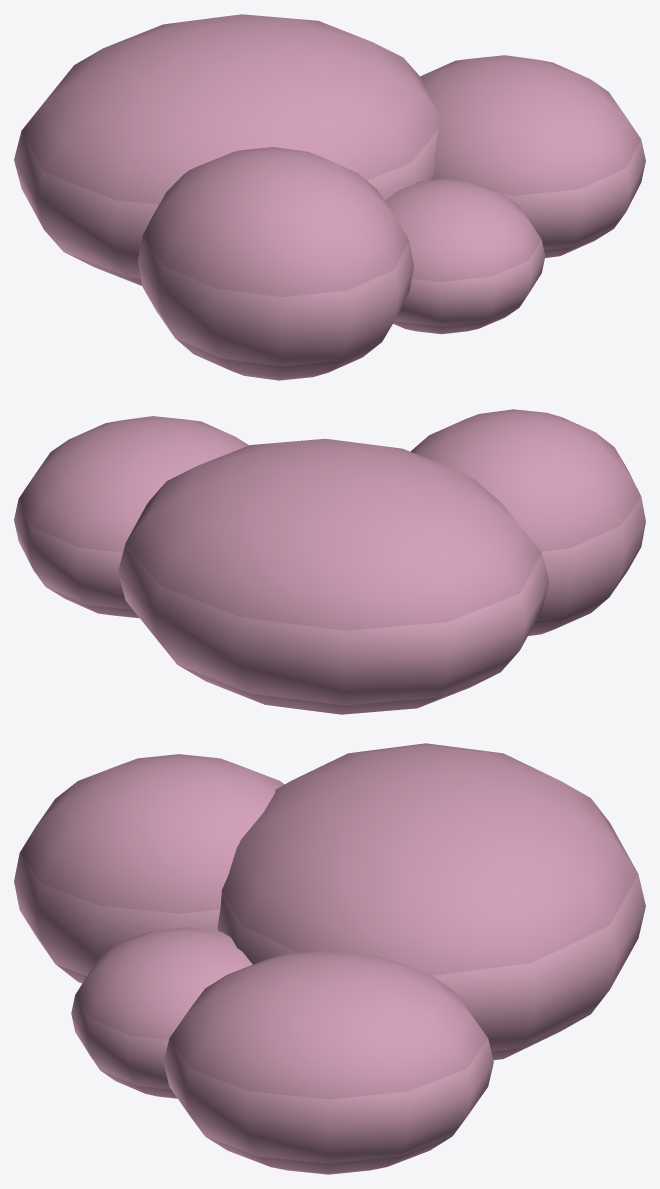
File: bush-76_col.fbx
3 views of the same model, one above another, from view 1: azimuth 30°, elevation 25°; view 2: azimuth 150°, elevation 25°; view 3: azimuth 270°, elevation 25° (orthographic). The views are drawn at different scales.
Visible parts, largest first — view 1: bush-76.col; view 2: bush-76.col; view 3: bush-76.col.
Boxes of the visible parts, box(x1,y1,x2,y2) form: bush-76.col: box(14, 14, 645, 380); bush-76.col: box(14, 409, 645, 714); bush-76.col: box(14, 743, 645, 1174).
Bounding box in the file's own units: 0.4055 × 0.1595 × 0.3676.
Materials: 1 (1 with a texture image).
